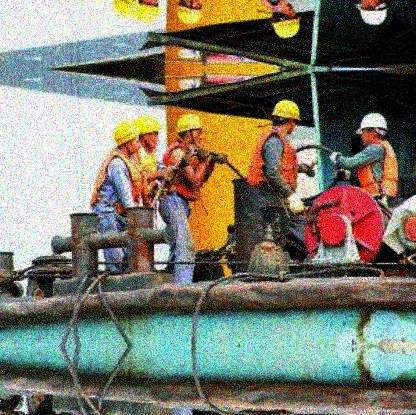helmet: (353, 112, 390, 145), (271, 100, 301, 136), (271, 3, 300, 37), (113, 122, 140, 155), (136, 119, 161, 149), (178, 116, 203, 145), (176, 1, 203, 23)
